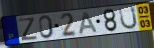0: (38, 15, 55, 40)
2: (59, 12, 78, 39)
8: (102, 8, 118, 33)
A: (79, 11, 99, 36)
U: (118, 5, 139, 31)
Z: (18, 16, 38, 42)
